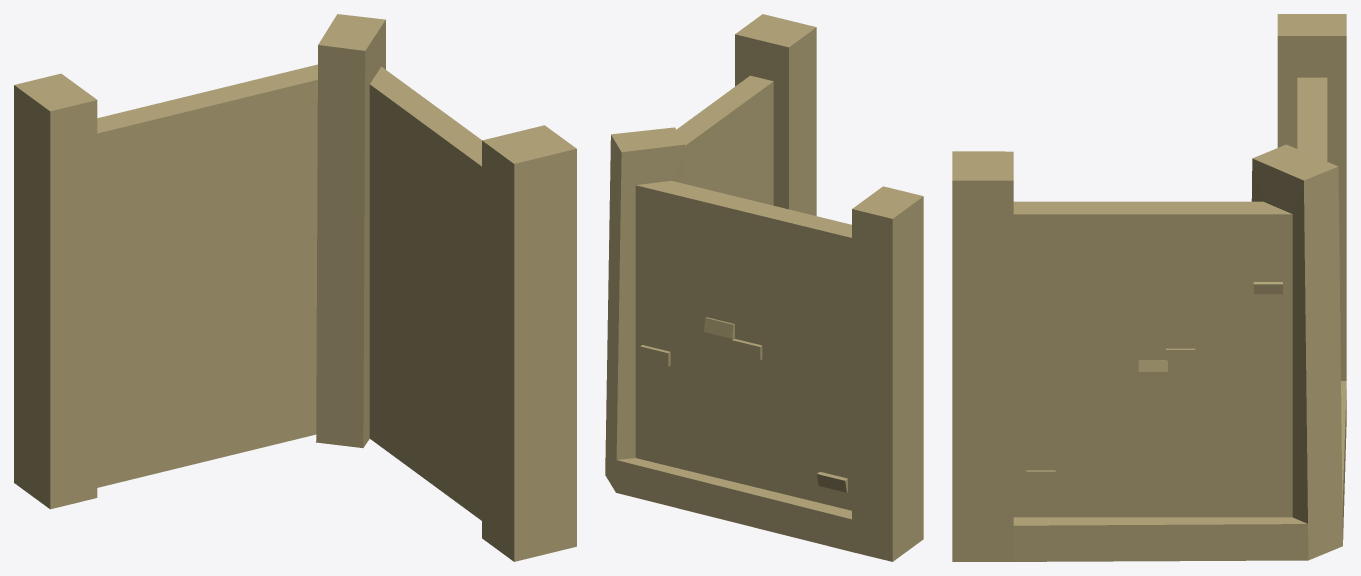
File: wall2.fbx
The picture shows the model from 3 angles, left to right: view 1: azimuth 30°, elevation 25°; view 2: azimuth 150°, elevation 25°; view 3: azimuth 270°, elevation 25°; orthographic projection. The views are drawn at different scales.
Visible parts, largest first — view 1: Cube.015; view 2: Cube.015; view 3: Cube.015.
Boxes of the visible parts, bbox=[...] form: Cube.015: bbox=[14, 14, 576, 561]; Cube.015: bbox=[605, 14, 923, 561]; Cube.015: bbox=[952, 14, 1346, 561].
Size of the model in its own units: 438 by 467 by 438.
